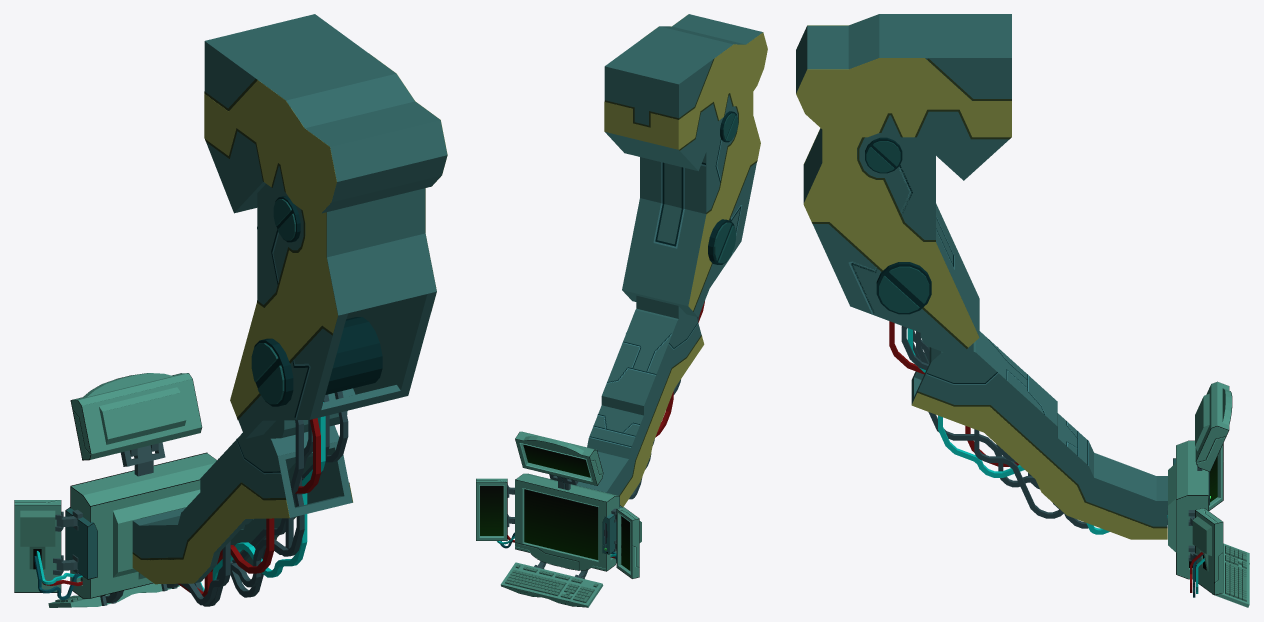
The model's file is interface_sc.obj.
3 views of the same model, side by side, from view 1: azimuth 30°, elevation 25°; view 2: azimuth 150°, elevation 25°; view 3: azimuth 270°, elevation 25° (orthographic). The views are drawn at different scales.
Visible parts, largest first — view 1: SecondArm, ThirdArm, quantumcube, FirstArm; view 2: quantumcube, ThirdArm, SecondArm, FirstArm; view 3: ThirdArm, SecondArm, FirstArm, quantumcube.
Boxes of the visible parts, bbox=[...] form: SecondArm: bbox=[230, 184, 436, 438]; ThirdArm: bbox=[204, 14, 447, 213]; quantumcube: bbox=[14, 373, 216, 607]; FirstArm: bbox=[132, 391, 353, 606]; quantumcube: bbox=[476, 431, 641, 607]; ThirdArm: bbox=[604, 14, 767, 171]; SecondArm: bbox=[622, 92, 760, 316]; FirstArm: bbox=[576, 295, 704, 506]; ThirdArm: bbox=[796, 14, 1011, 180]; SecondArm: bbox=[803, 128, 979, 359]; FirstArm: bbox=[889, 321, 1167, 539]; quantumcube: bbox=[1168, 381, 1249, 607].
Bounding box in the file's own units: 1.85 × 4.89 × 3.65.
